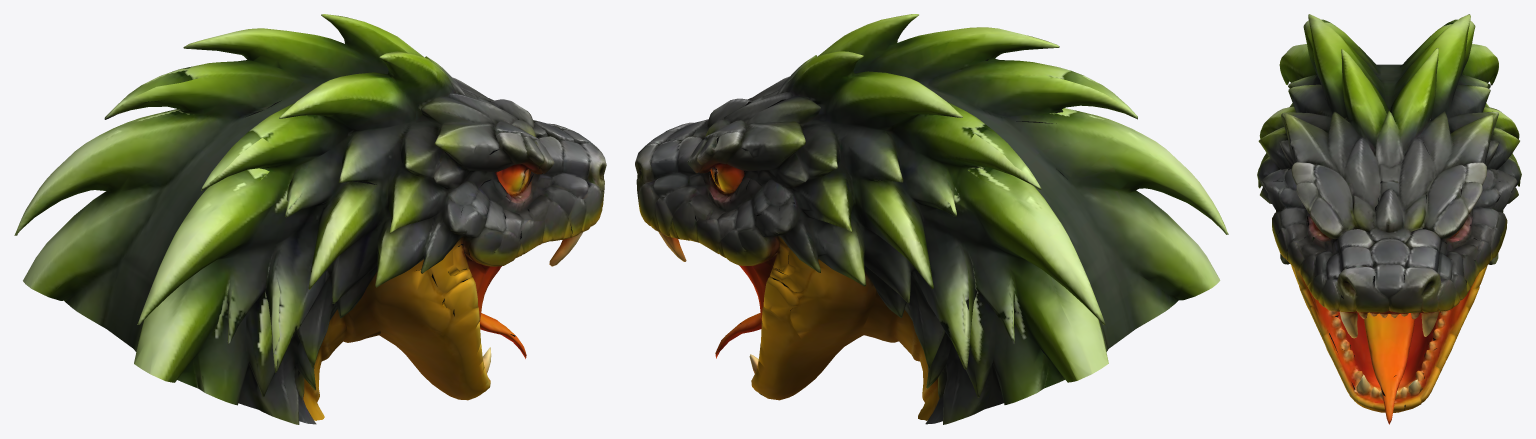
The model's file is cobra_cabeca_aberta.glb.
3 renders of one model, left to right at view 1: azimuth 30°, elevation 25°; view 2: azimuth 150°, elevation 25°; view 3: azimuth 270°, elevation 25°, orthographic. The views are drawn at different scales.
Parts seen in each view (by area): view 1: cabeca; view 2: cabeca; view 3: cabeca.
Part boxes in pixels (x1,y1,x2,y2): cabeca: (14, 14, 606, 424); cabeca: (635, 14, 1228, 424); cabeca: (1257, 14, 1521, 424).
Size of the model in its own units: 0.8572 by 0.6063 by 0.4544.
Materials: 1 (1 with a texture image).
